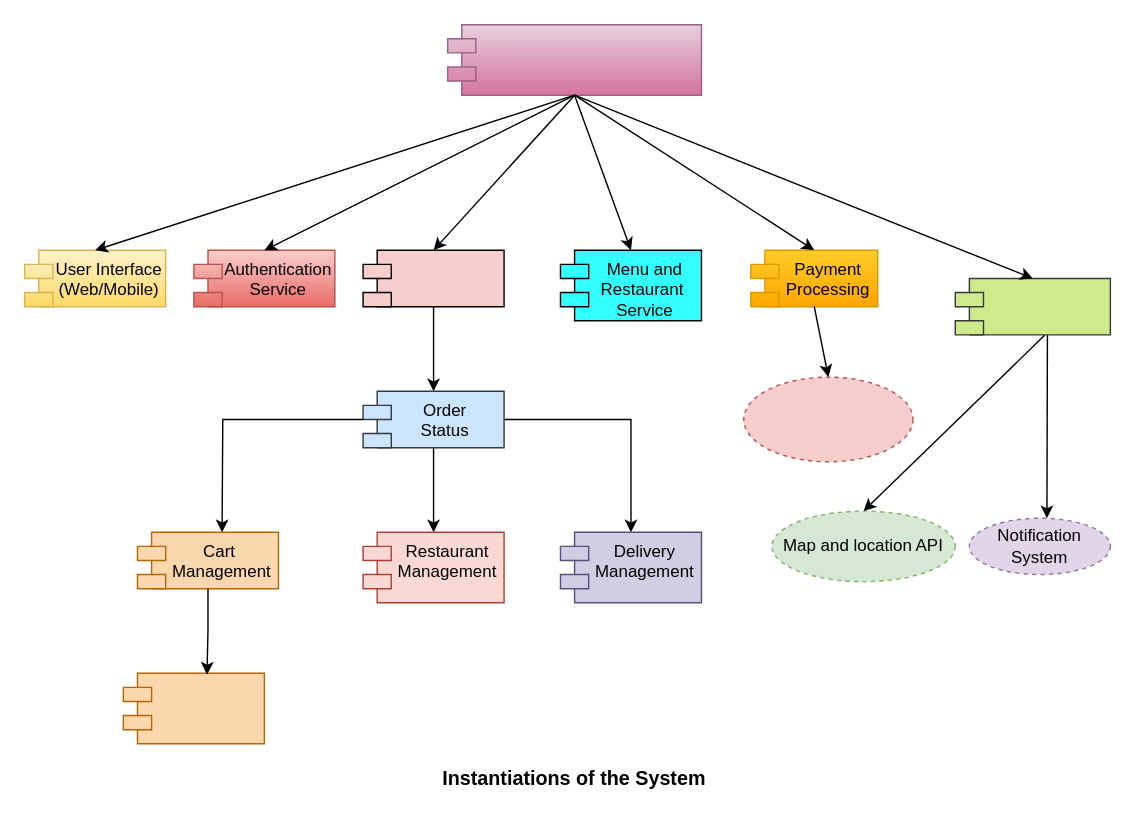
Image size: 1135x825. Some labels were removed from this diagram. Each missing label, with the box of its shape:
Consumer Management: (122, 672, 264, 744)
Order Management: (362, 249, 504, 307)
Payment Gateway API: (742, 376, 913, 462)
QuickBite Core Controller: (446, 23, 701, 95)
Real time Order Tracking: (954, 277, 1110, 335)
